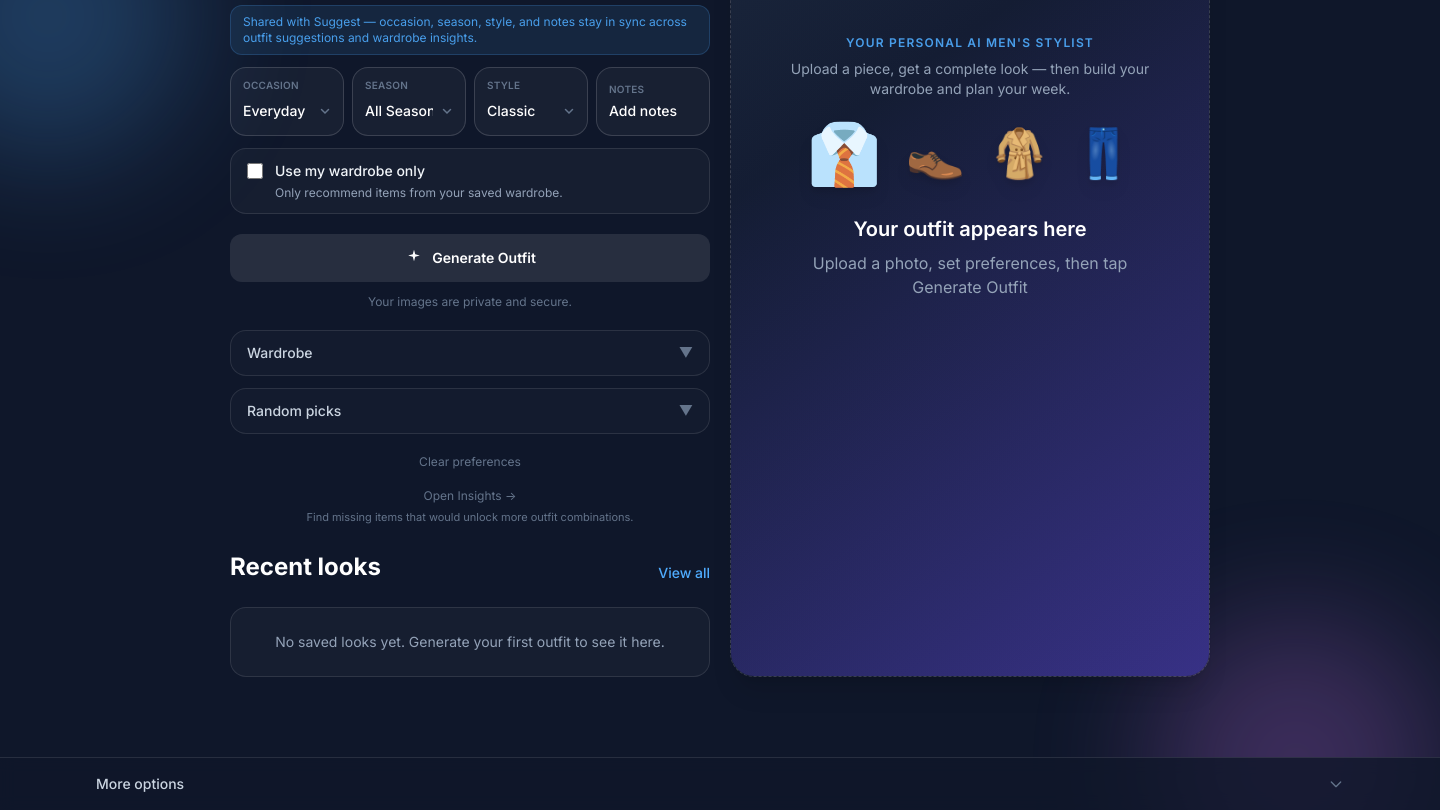
it: Random from History integration › shows error toast when history is empty
(page scrolled)
Click the text "Random picks" at {"x": 294, "y": 411}, box [247,401,341,421]
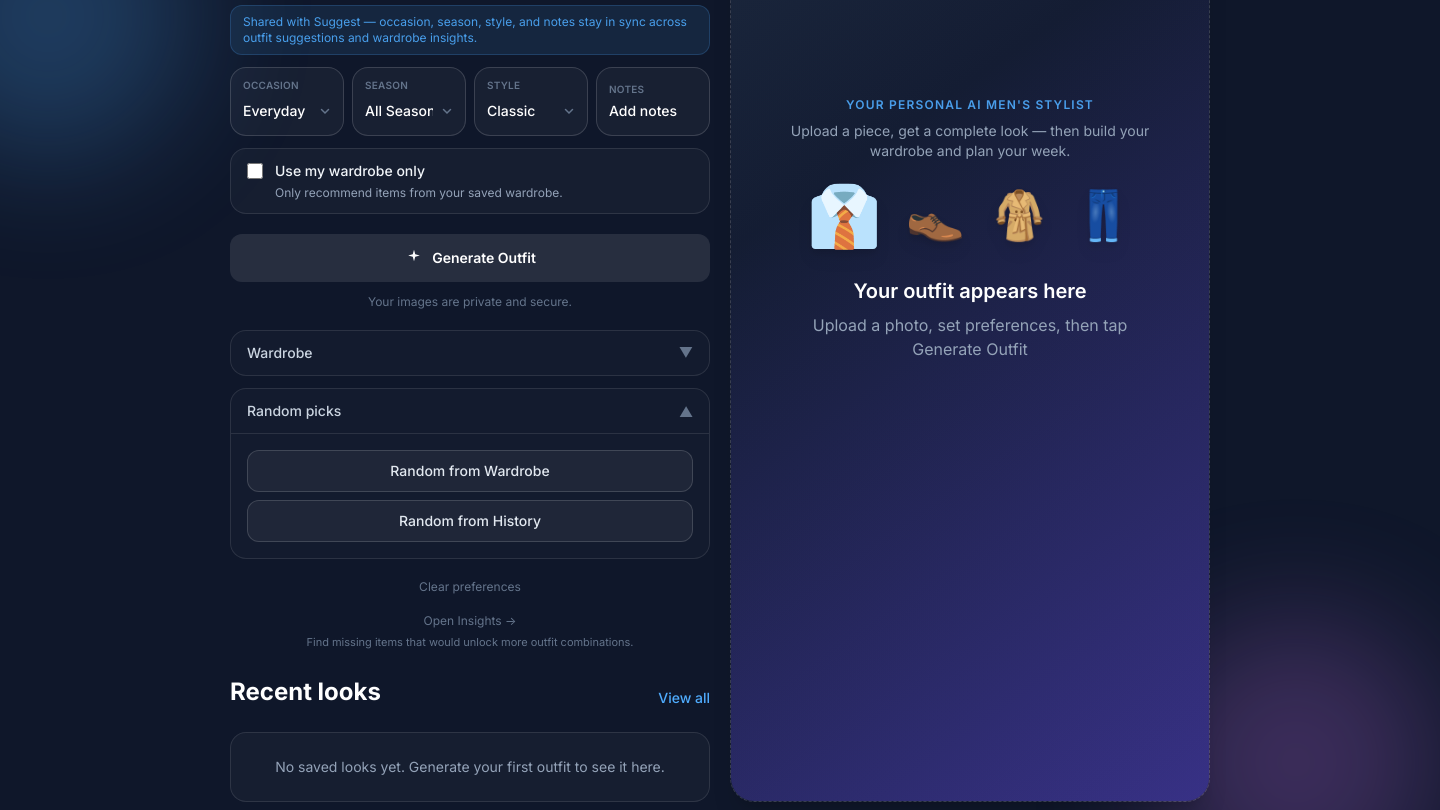
Click the button with aria-label "show random outfit from your history" at {"x": 470, "y": 521}, box [247,500,693,542]
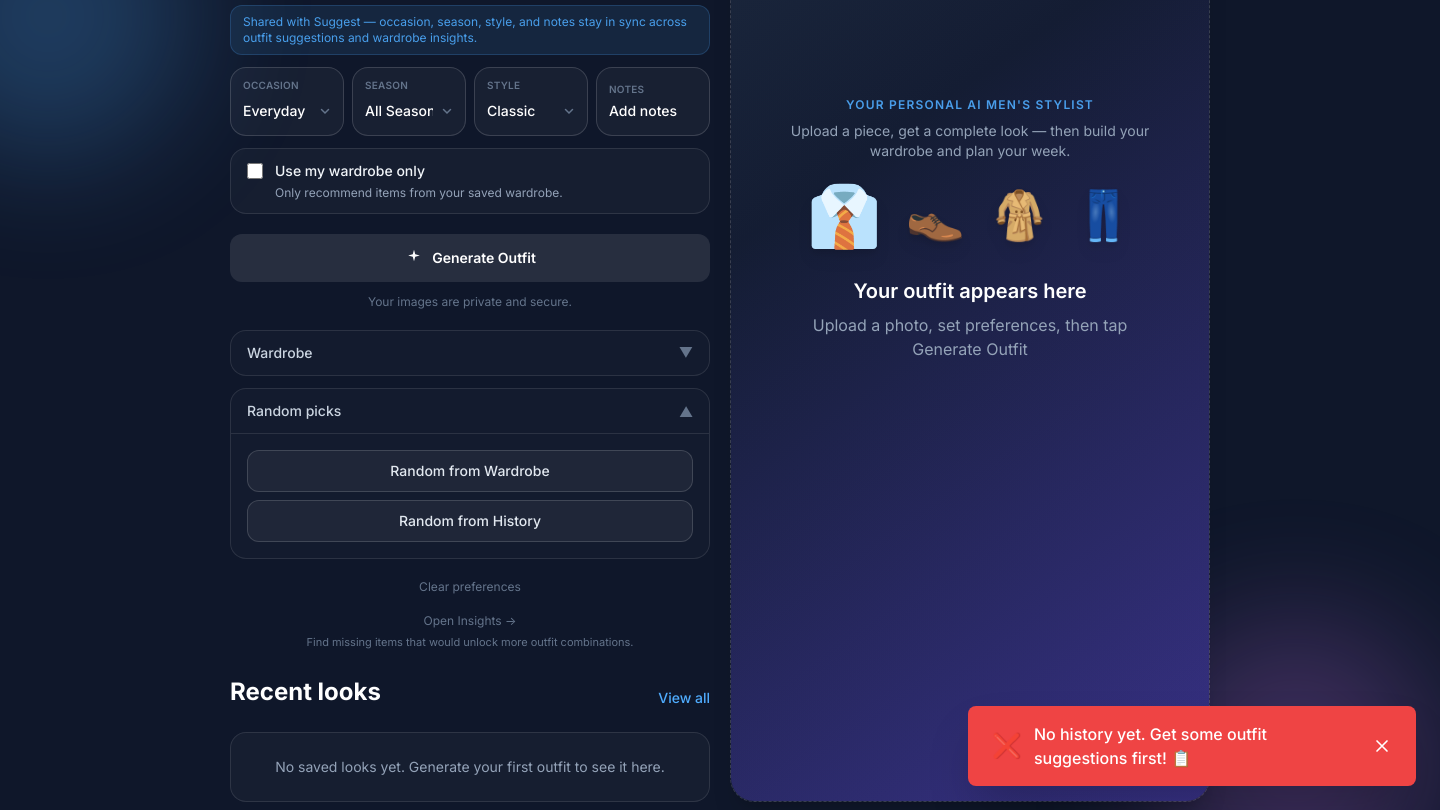
Check: the text "No history yet. Get some outfit suggestions first! 📋" is shown, box [1034,724,1267,768]
